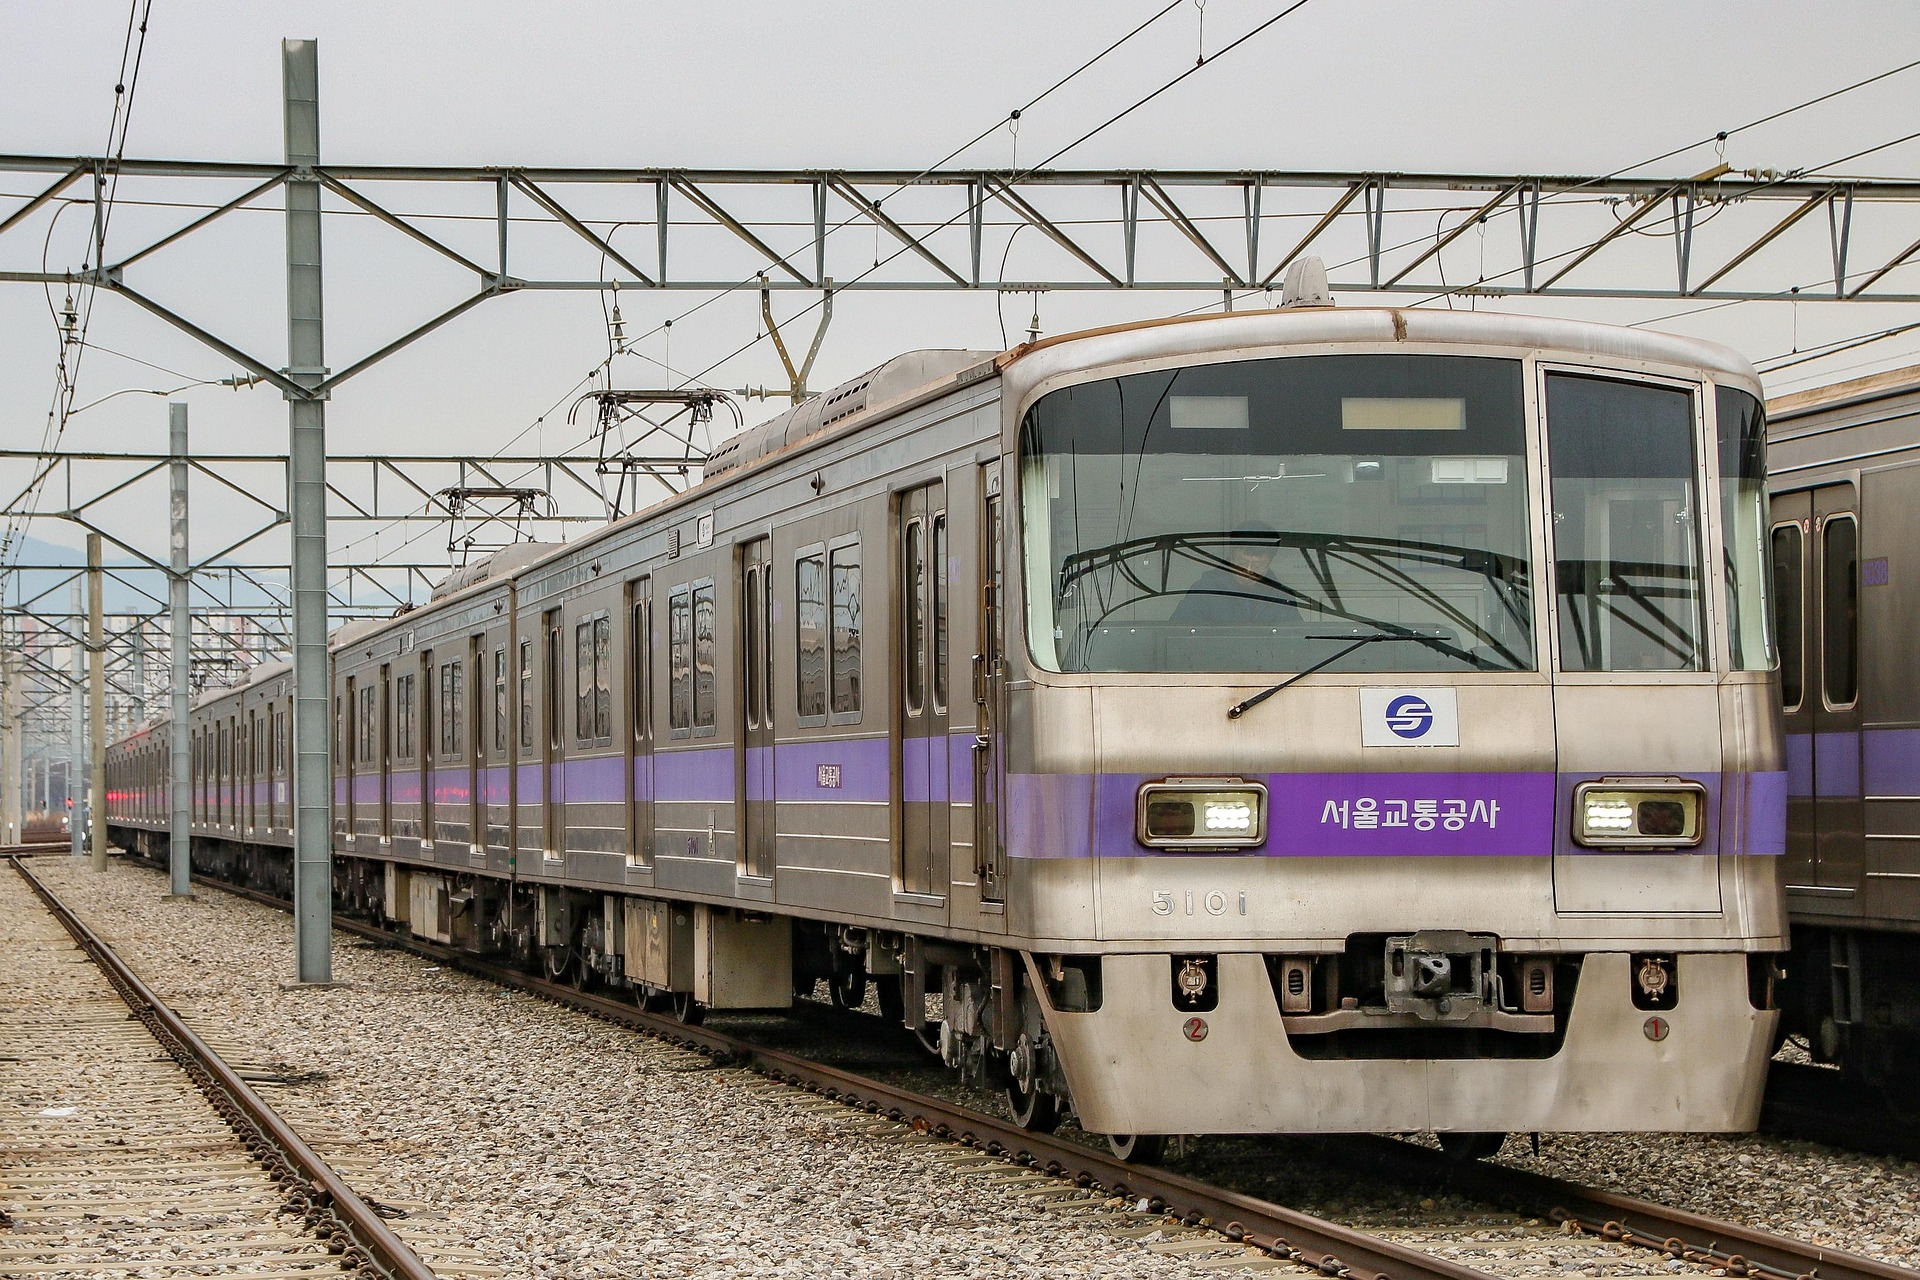train1: (84, 287, 1816, 1141)
